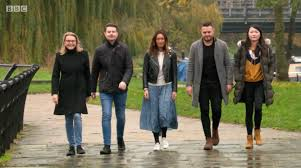Bad: (142, 23, 233, 152), (90, 23, 179, 154), (186, 23, 275, 150), (51, 23, 133, 155)
